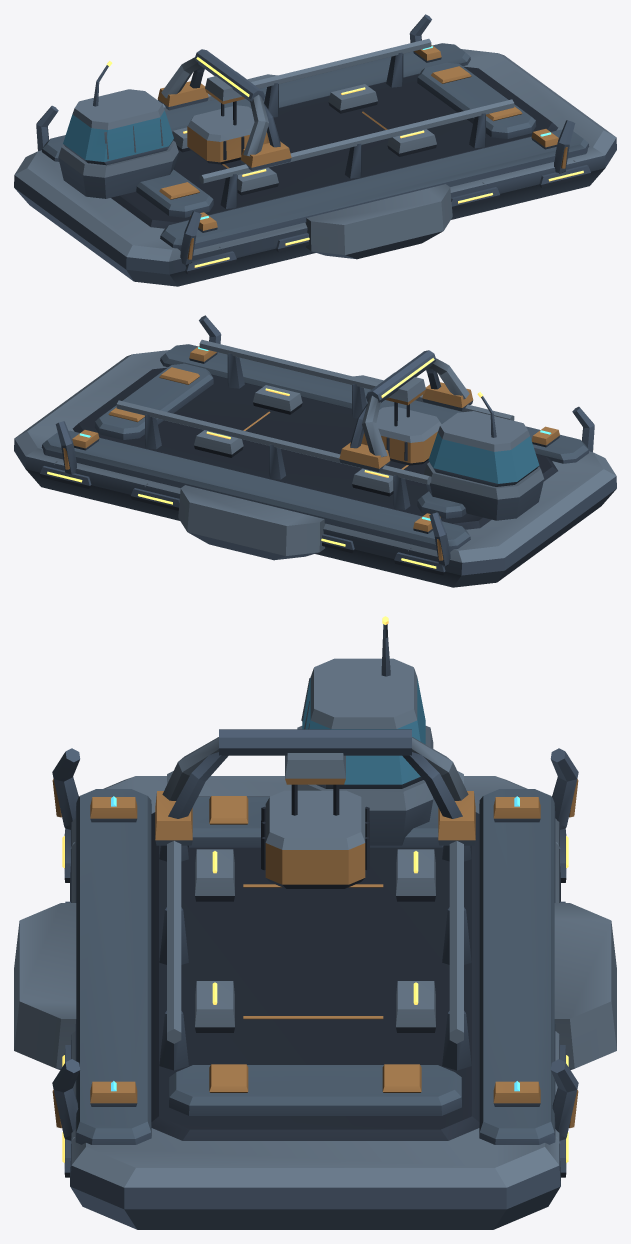
The model's file is shipyard-cargo-berth.glb.
3 renders of one model, top to bottom at view 1: azimuth 30°, elevation 25°; view 2: azimuth 150°, elevation 25°; view 3: azimuth 270°, elevation 25°, orthographic. The views are drawn at different scales.
Parts seen in each view (by area): view 1: shipyard-cargo-berth, Cargo_Gantry; view 2: shipyard-cargo-berth, Cargo_Gantry; view 3: shipyard-cargo-berth, Cargo_Gantry.
Part boxes in pixels (left/top/right/bottom): shipyard-cargo-berth: left=14, top=14, right=616, bottom=286; Cargo_Gantry: left=157, top=49, right=291, bottom=170; shipyard-cargo-berth: left=14, top=315, right=616, bottom=587; Cargo_Gantry: left=339, top=350, right=473, bottom=471; shipyard-cargo-berth: left=14, top=616, right=616, bottom=1229; Cargo_Gantry: left=155, top=729, right=475, bottom=888.
Bounding box in the file's own units: 13.94 × 4.57 × 8.7.
